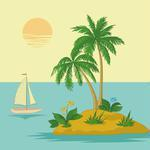boat: (8, 69, 43, 115)
